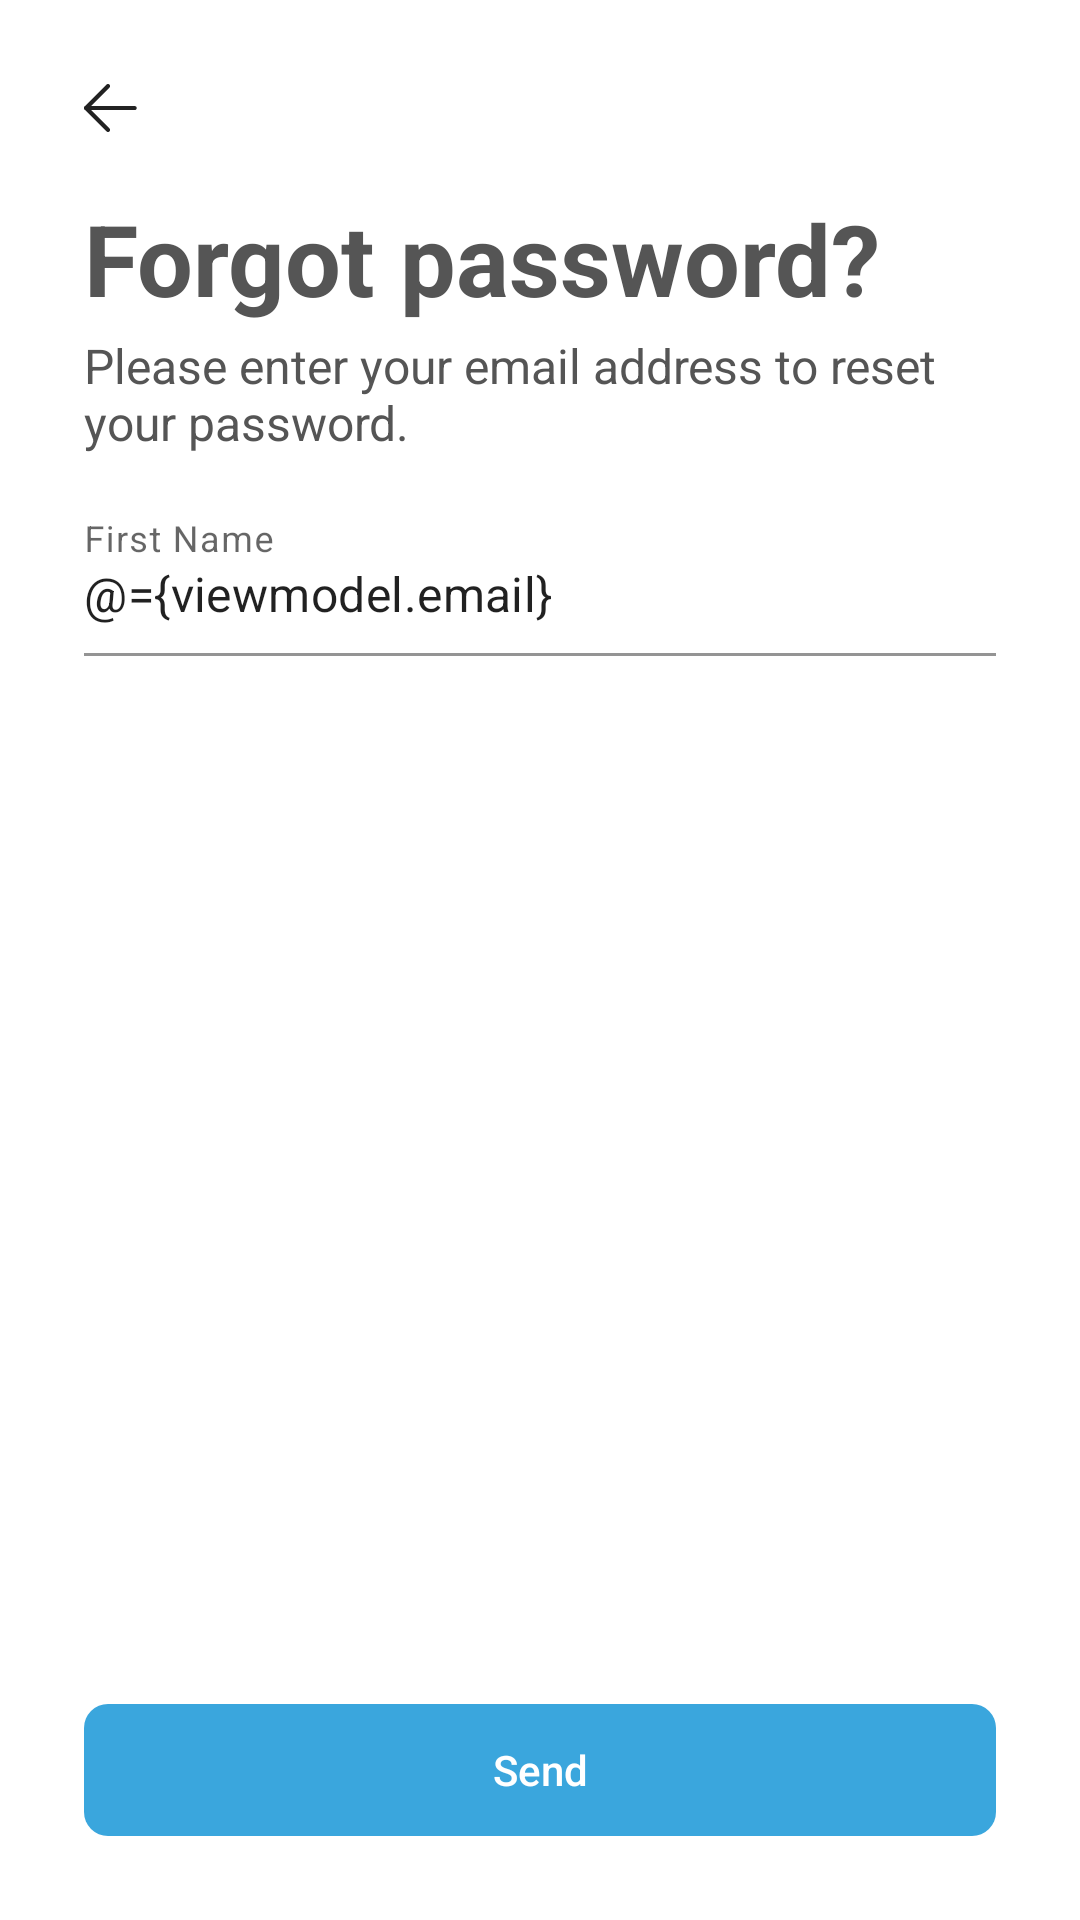

Icons on this 1080px x 1920px Android screen, each with its box as (x1, y1, x2, y2):
arrow: (84, 84, 137, 132)
